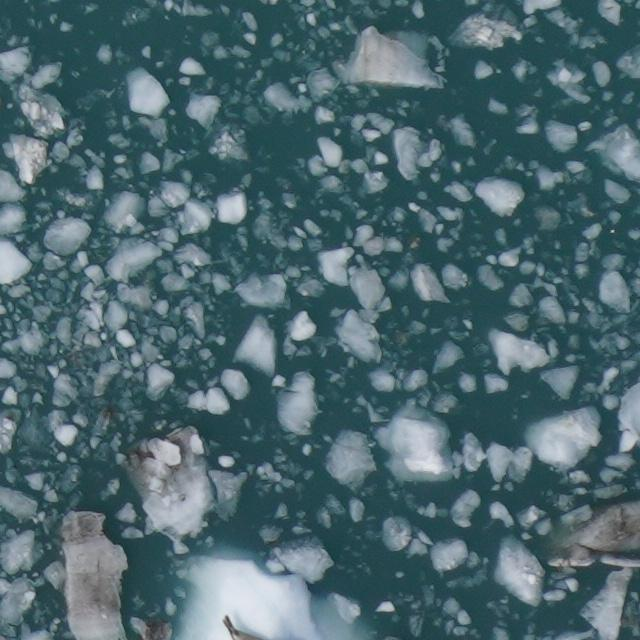seal: (215, 613, 264, 640)
